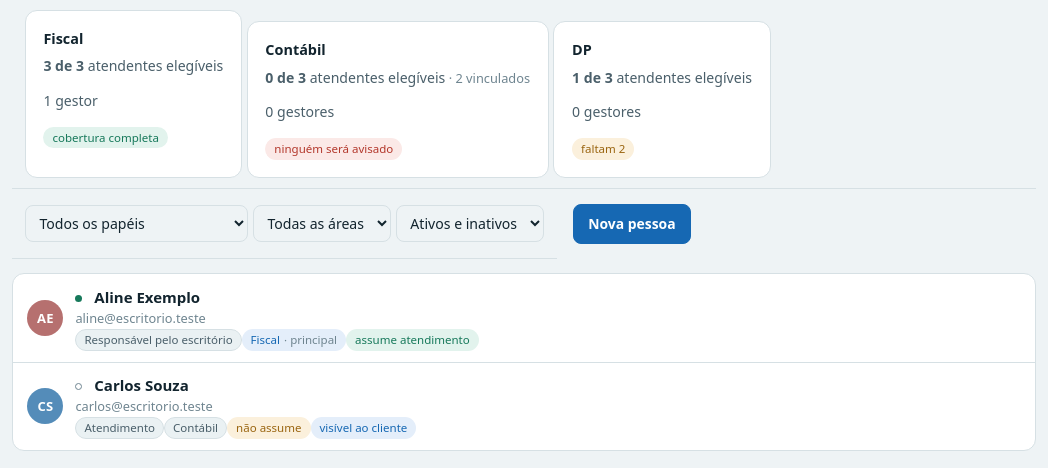
Test case: lista › filtra por situação
The image size is (1048, 468).
Expected: the text "Aline Exemplo" is shown, [75,287,200,307]
Select "Só inativos" in the dropdown named "Situação" at (470, 223), box [396,205,544,242]
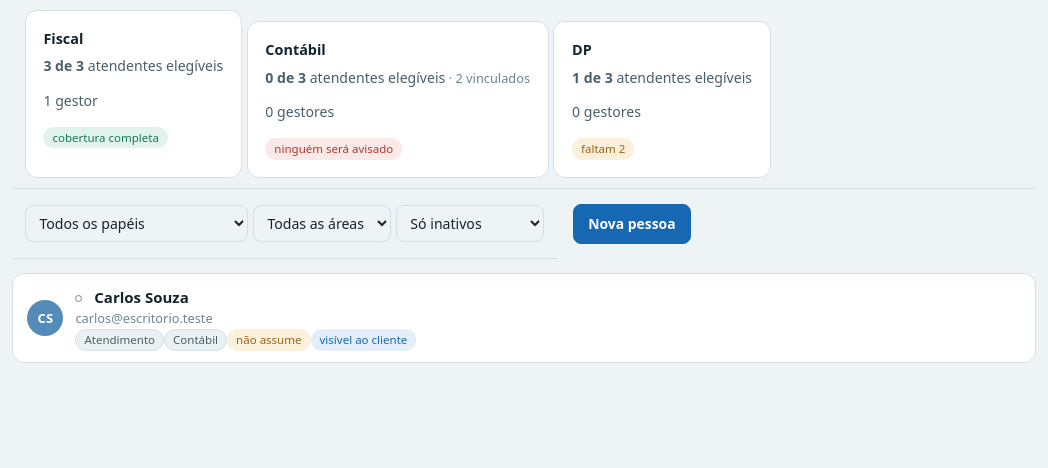
Expected: the text "Carlos Souza" is shown, [75,287,189,307]
Expected: the button "Aline Exemplo" is gone
